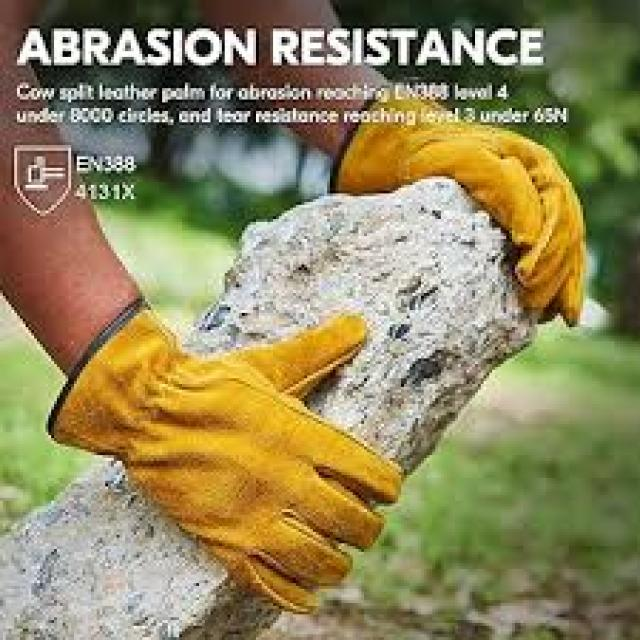Gloves: (50, 308, 401, 611), (339, 121, 584, 323)
